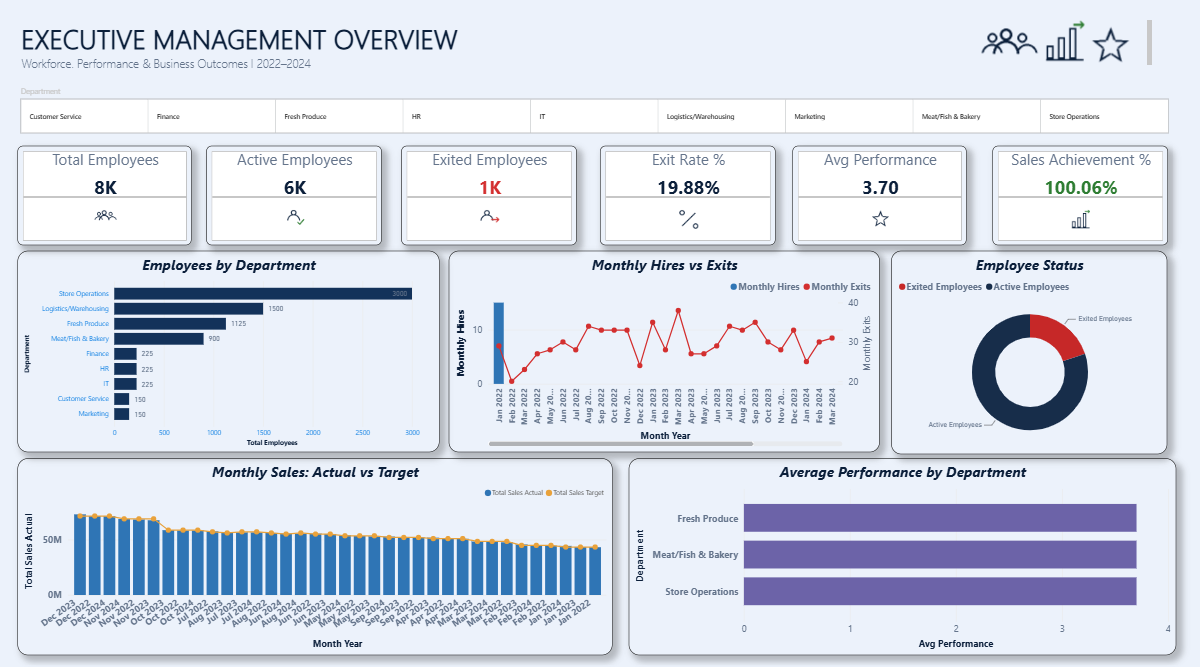

The page's visual inventory and layout, read from the dashboard file:
{"tool":"powerbi","page":{"name":"EXECUTIVE MANAGEMENT OVERVIEW","canvas":[1920,1080],"ordinal":0},"visuals":[{"type":"cardVisual","fields":{"Data":["business_outcomes_clean.Total Employees"]},"box":[27.1,237.1,278.7,159.3],"z":0},{"type":"cardVisual","fields":{"Data":["business_outcomes_clean.Active Employees"]},"box":[329.4,237.1,280.5,159.3],"z":1000},{"type":"cardVisual","fields":{"Data":["business_outcomes_clean.Exited Employees"]},"box":[642.4,237.1,280.5,159.3],"z":2000},{"type":"cardVisual","fields":{"Data":["business_outcomes_clean.Exit Rate %"]},"box":[959.1,237.1,280.5,159.3],"z":3000},{"type":"cardVisual","fields":{"Data":["business_outcomes_clean.Avg Performance"]},"box":[1268.6,237.1,278.7,159.3],"z":4000},{"type":"cardVisual","fields":{"Data":["business_outcomes_clean.Sales Achievement %"]},"box":[1587.1,237.1,280.5,159.3],"z":5000},{"type":"clusteredBarChart","title":"Employees by Department","fields":{"Category":["employees_clean.Department"],"Y":["business_outcomes_clean.Total Employees"]},"box":[27.1,405.4,675,322.1],"z":6000},{"type":"donutChart","title":"Employee Status","fields":{"Y":["business_outcomes_clean.Exited Employees","business_outcomes_clean.Active Employees"]},"box":[1426,405.4,441.6,325.7],"z":7000},{"type":"lineClusteredColumnComboChart","title":"Monthly Hires vs Exits","fields":{"Category":["business_outcomes_clean.Month Year"],"Y":["employees_clean.Monthly Hires"],"Y2":["employees_clean.Monthly Exits"]},"box":[718.4,405.4,689.5,322.1],"z":8000},{"type":"lineClusteredColumnComboChart","title":"Monthly Sales: Actual vs Target","fields":{"Category":["business_outcomes_clean.Month Year"],"Y":["business_outcomes_clean.Total Sales Actual"],"Y2":["business_outcomes_clean.Total Sales Target"]},"box":[27.1,738.3,951.9,314.9],"z":9000},{"type":"clusteredBarChart","title":"Average Performance by Department","fields":{"Category":["business_outcomes_clean.Department"],"Y":["business_outcomes_clean.Avg Performance"]},"box":[1006.2,738.3,875.9,314.9],"z":10000},{"type":"textbox","box":[27.1,32.6,1820.5,86.9],"z":11000},{"type":"advancedSlicerVisual","fields":{"Values":["employees_clean.Department"]},"box":[27.1,143,1854.9,81.4],"z":12000}]}

Visuals, with their boxes in screenshot pixels (x1, y1, x2, y2), scaled from the page's 1920x1080 canvas onto the 1200x667 screenshot:
cardVisual - business_outcomes_clean.Total Employees: 17/146/191/245
cardVisual - business_outcomes_clean.Active Employees: 206/146/381/245
cardVisual - business_outcomes_clean.Exited Employees: 402/146/577/245
cardVisual - business_outcomes_clean.Exit Rate %: 599/146/775/245
cardVisual - business_outcomes_clean.Avg Performance: 793/146/967/245
cardVisual - business_outcomes_clean.Sales Achievement %: 992/146/1167/245
"Employees by Department" clusteredBarChart: 17/250/439/449
"Employee Status" donutChart: 891/250/1167/452
"Monthly Hires vs Exits" lineClusteredColumnComboChart: 449/250/880/449
"Monthly Sales: Actual vs Target" lineClusteredColumnComboChart: 17/456/612/650
"Average Performance by Department" clusteredBarChart: 629/456/1176/650
textbox: 17/20/1155/74
advancedSlicerVisual - employees_clean.Department: 17/88/1176/139
